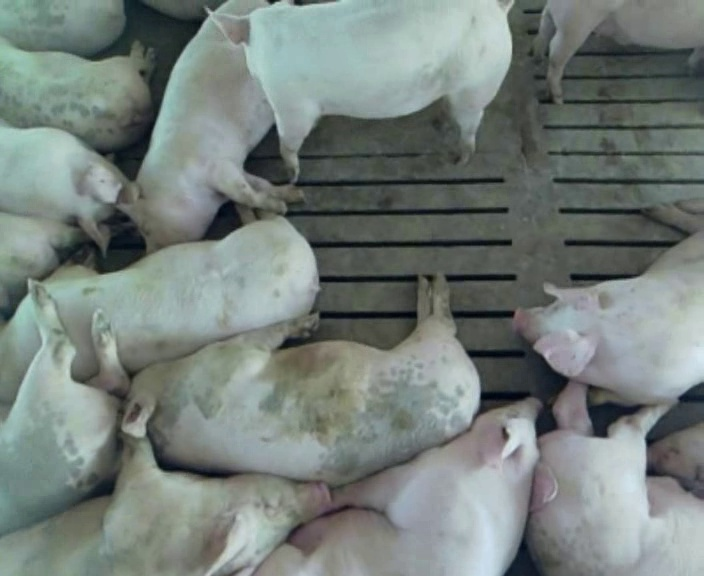pig: (123, 277, 479, 485), (207, 1, 510, 181), (256, 398, 557, 573), (0, 434, 329, 574), (516, 198, 703, 404), (526, 381, 703, 574), (0, 283, 130, 534), (0, 37, 153, 151), (532, 2, 703, 102), (0, 212, 87, 317), (647, 422, 703, 498)
